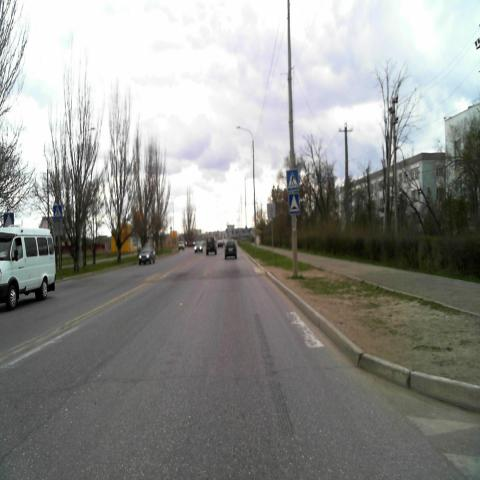5_19_1: (286, 168, 299, 190), (53, 206, 62, 218)
5_20: (289, 194, 300, 215)
